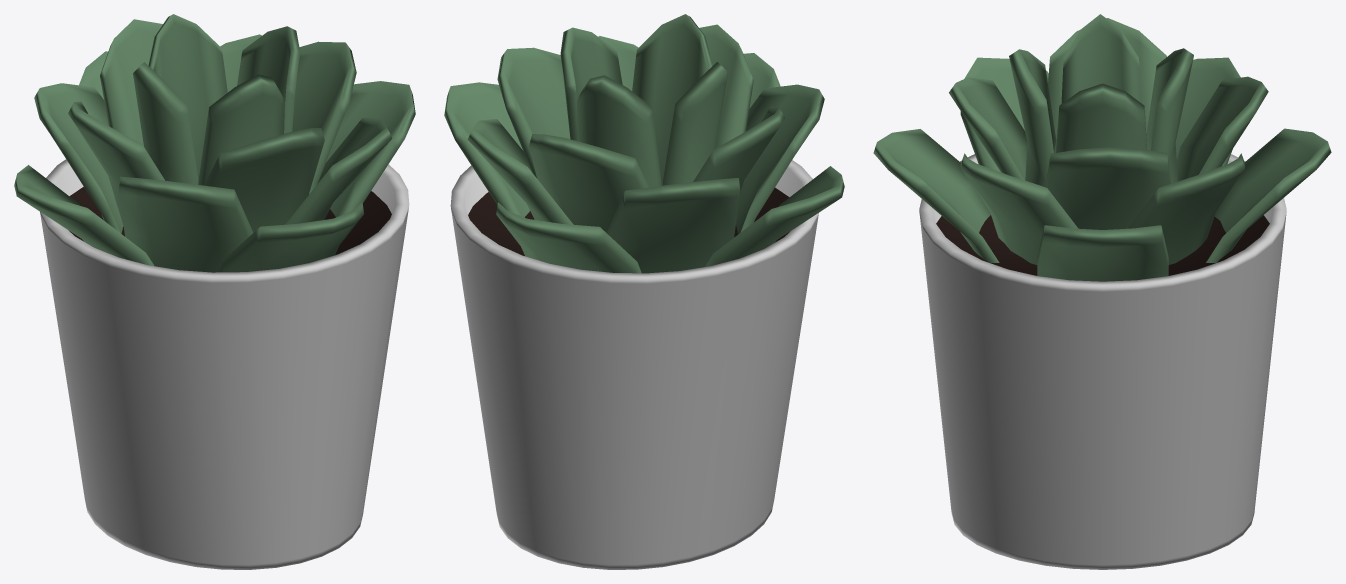
The model's file is tanaman ikea 1.fbx.
3 renders of one model, left to right at view 1: azimuth 30°, elevation 25°; view 2: azimuth 150°, elevation 25°; view 3: azimuth 270°, elevation 25°, orthographic.
Parts seen in each view (by area): view 1: Cylinder, Cube.007, Cube.011, Cube.012, Cube.008, Cube.005, Cube.013, Cube.001, Cube.014, Cube.002, Cube.010, Cube (+5 smaller); view 2: Cylinder, Cube.005, Cube.010, Cube.013, Cube.008, Cube.012, Cube.007, Cube.003, Cube.014, Cube.001, Cube, Cube.006 (+5 smaller); view 3: Cylinder, Cube.008, Cube.001, Cube.002, Cube.003, Cube.006, Cube.004, Cube.015, Cube.010, Cube.014, Cube.011, Cube.013 (+4 smaller).
Boxes of the visible parts, left/top/right/bottom form: Cylinder: left=40, top=159, right=409, bottom=569; Cube.007: left=119, top=176, right=253, bottom=272; Cube.011: left=204, top=128, right=324, bottom=232; Cube.012: left=148, top=14, right=227, bottom=179; Cube.008: left=292, top=41, right=356, bottom=194; Cube.005: left=34, top=83, right=123, bottom=233; Cube.013: left=198, top=74, right=284, bottom=185; Cube.001: left=326, top=81, right=415, bottom=217; Cube.014: left=133, top=62, right=198, bottom=184; Cube.002: left=218, top=202, right=363, bottom=272; Cube.010: left=100, top=19, right=162, bottom=146; Cube: left=14, top=165, right=154, bottom=266; Cylinder: left=450, top=160, right=818, bottom=569; Cube.005: left=606, top=178, right=740, bottom=273; Cube.010: left=529, top=134, right=649, bottom=232; Cube.013: left=632, top=14, right=712, bottom=185; Cube.008: left=497, top=47, right=570, bottom=177; Cube.012: left=577, top=75, right=661, bottom=187; Cube.007: left=736, top=84, right=824, bottom=234; Cube.003: left=496, top=202, right=641, bottom=273; Cube.014: left=662, top=62, right=727, bottom=185; Cube.001: left=444, top=82, right=529, bottom=217; Cube: left=705, top=166, right=844, bottom=266; Cube.006: left=467, top=119, right=573, bottom=224; Cylinder: left=919, top=154, right=1286, bottom=569; Cube.008: left=1045, top=147, right=1171, bottom=229; Cube.001: left=1037, top=225, right=1168, bottom=281; Cube.002: left=873, top=129, right=999, bottom=262; Cube.003: left=1206, top=128, right=1331, bottom=262; Cube.006: left=1128, top=153, right=1245, bottom=264; Cube.004: left=960, top=153, right=1078, bottom=264; Cube.015: left=1055, top=83, right=1146, bottom=152; Cube.010: left=1176, top=76, right=1268, bottom=181; Cube.014: left=1061, top=14, right=1141, bottom=103; Cube.011: left=949, top=77, right=1027, bottom=180; Cube.013: left=1009, top=49, right=1056, bottom=186.
Size of the model in its own units: 246 by 277 by 249.
